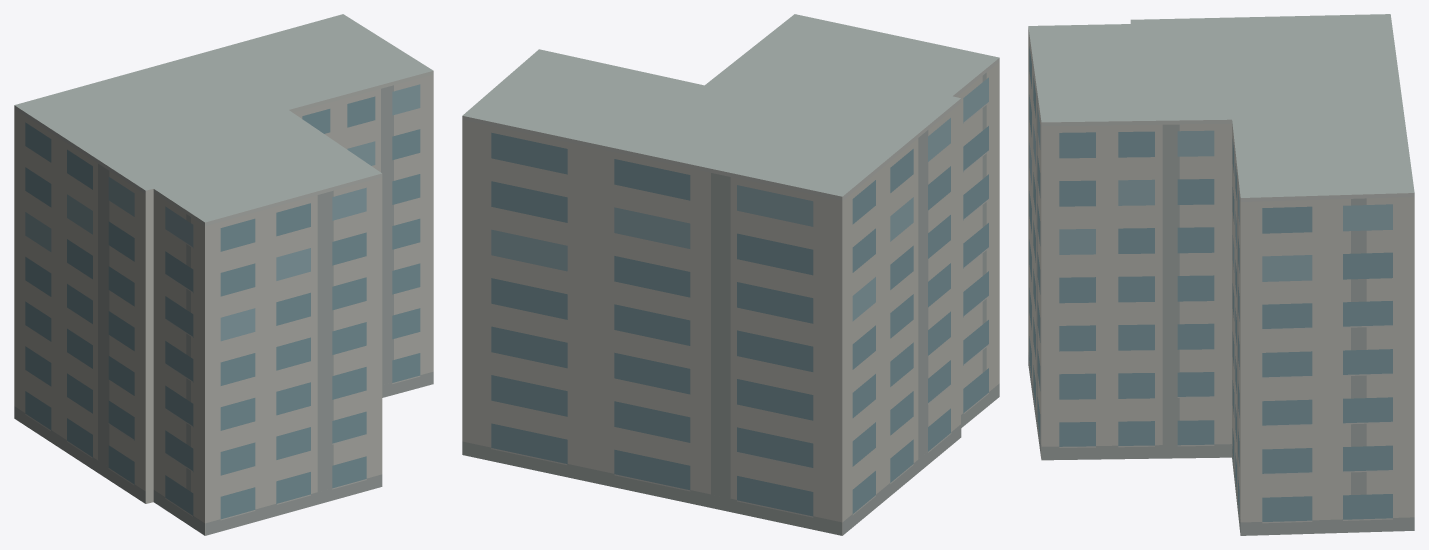
The model's file is survey-upis-32517679.glb.
3 renders of one model, left to right at view 1: azimuth 30°, elevation 25°; view 2: azimuth 150°, elevation 25°; view 3: azimuth 270°, elevation 25°, orthographic. The views are drawn at different scales.
Parts seen in each view (by area): view 1: survey-upis-32517679.tmp; view 2: survey-upis-32517679.tmp; view 3: survey-upis-32517679.tmp.
Boxes of the visible parts, x1,y1,x2,y2 form: survey-upis-32517679.tmp: (14, 14, 433, 535); survey-upis-32517679.tmp: (462, 14, 999, 535); survey-upis-32517679.tmp: (1028, 14, 1414, 535).
Bounding box in the file's own units: 23.67 × 20.25 × 21.
